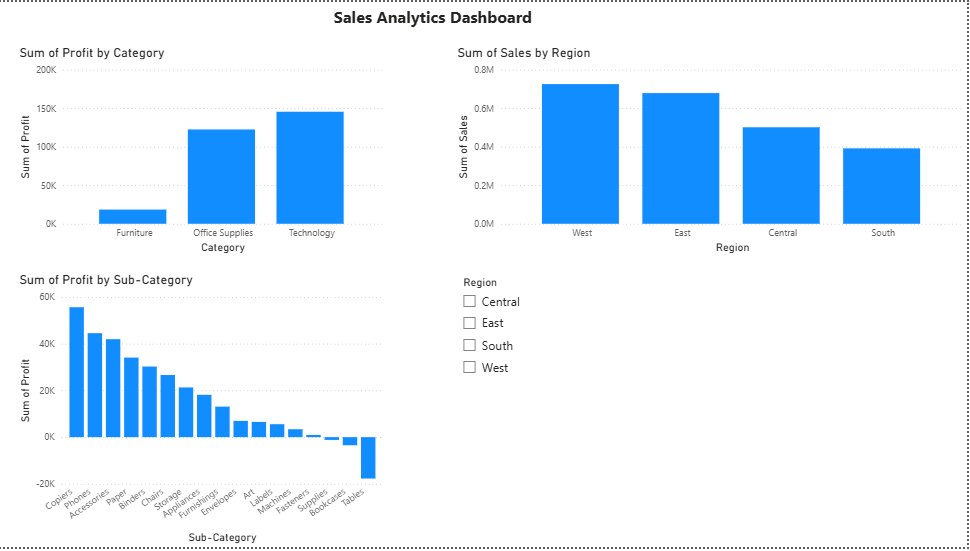

The dashboard page shown, as its layout file describes it:
{"tool":"powerbi","page":{"name":"Page 1","canvas":[1280,720],"ordinal":0},"visuals":[{"type":"clusteredColumnChart","fields":{"Category":["SampleSuperstore.Category"],"Y":["Sum(SampleSuperstore.Profit)"]},"box":[23.3,56.7,490,280],"z":0},{"type":"clusteredColumnChart","fields":{"Category":["SampleSuperstore.Region"],"Y":["Sum(SampleSuperstore.Sales)"]},"box":[601.7,56.7,678.3,280],"z":1},{"type":"clusteredColumnChart","fields":{"Y":["Sum(SampleSuperstore.Profit)"],"Category":["SampleSuperstore.Sub-Category"]},"box":[23.3,356.7,490,363.3],"z":2},{"type":"slicer","fields":{"Values":["SampleSuperstore.Region"]},"box":[601.7,356.7,595,363.3],"z":3},{"type":"textbox","box":[438.3,0,325,60],"z":4}]}

Visuals, with their boxes in screenshot pixels (x1, y1, x2, y2), scaled from the page's 1280x720 canvas onto the 970x551 screenshot:
clusteredColumnChart - SampleSuperstore.Category x Sum(SampleSuperstore.Profit): [left=18, top=43, right=389, bottom=258]
clusteredColumnChart - SampleSuperstore.Region x Sum(SampleSuperstore.Sales): [left=456, top=43, right=969, bottom=258]
clusteredColumnChart - Sum(SampleSuperstore.Profit) x SampleSuperstore.Sub-Category: [left=18, top=273, right=389, bottom=550]
slicer - SampleSuperstore.Region: [left=456, top=273, right=907, bottom=550]
textbox: [left=332, top=0, right=578, bottom=46]
